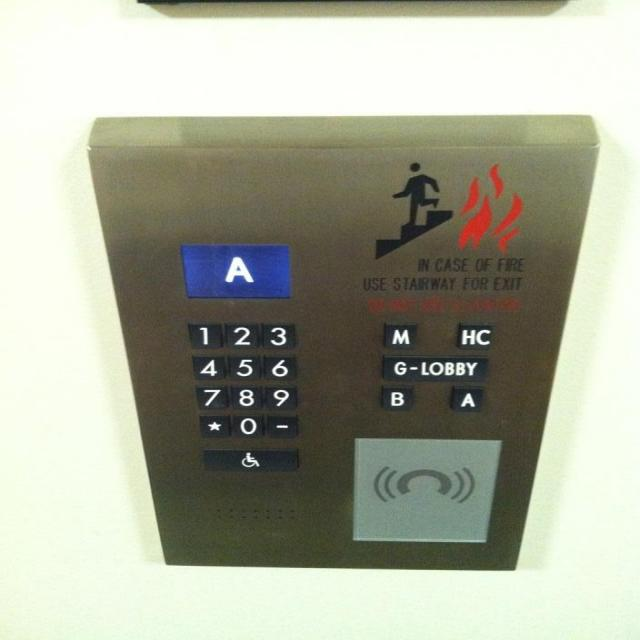-: (264, 412, 297, 438)
0: (232, 412, 265, 438)
1: (188, 322, 222, 348)
2: (222, 321, 262, 349)
3: (258, 322, 295, 349)
4: (190, 353, 229, 380)
5: (226, 352, 264, 380)
6: (262, 354, 296, 380)
7: (194, 383, 231, 410)
8: (229, 383, 265, 410)
9: (262, 383, 296, 410)
A: (448, 386, 486, 412)
B: (381, 384, 414, 412)
CH: (203, 448, 300, 471)
HC: (454, 322, 494, 349)
M: (383, 322, 417, 348)
led: (178, 243, 288, 300)
s: (197, 413, 234, 438)
text: (381, 354, 489, 381)
